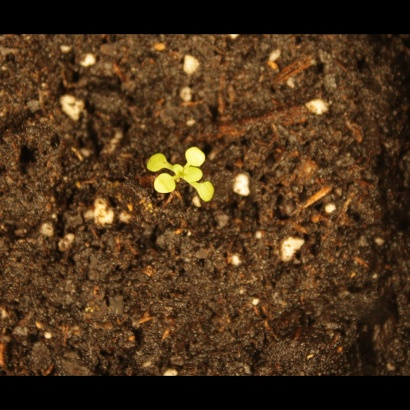leaf: (150, 172, 178, 198), (183, 141, 209, 169), (195, 180, 220, 208), (143, 148, 169, 173), (183, 164, 206, 187)
